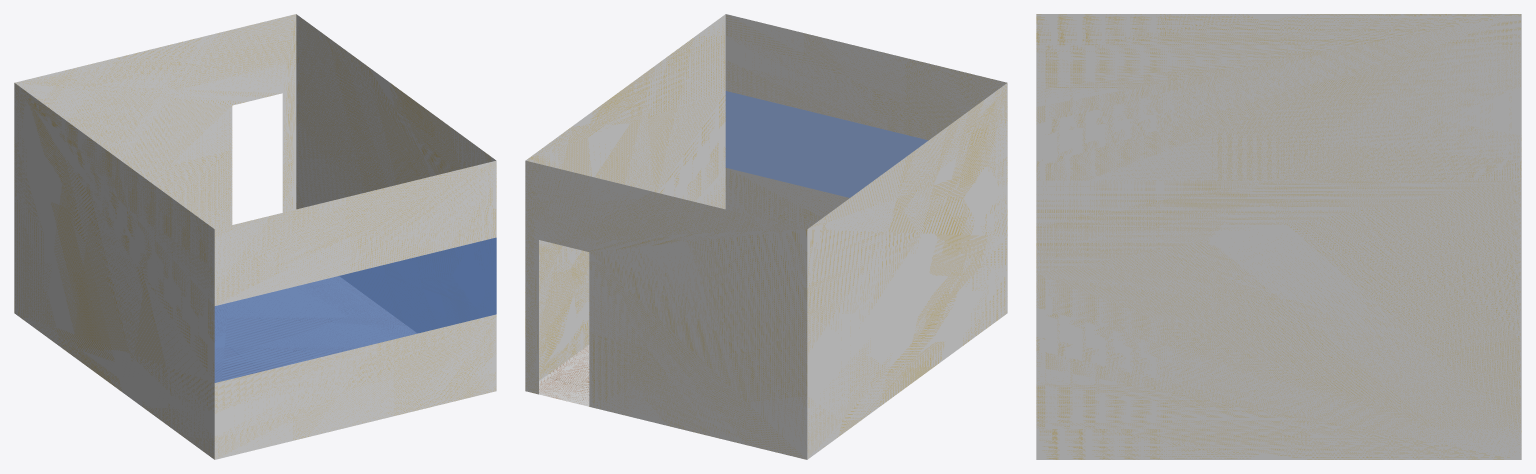
The model's file is LAB009.obj.
3 renders of one model, left to right at view 1: azimuth 30°, elevation 25°; view 2: azimuth 150°, elevation 25°; view 3: azimuth 270°, elevation 25°, orthographic. The views are drawn at different scales.
Visible parts, largest first — view 1: Mesh1 LAB009 Model; view 2: Mesh1 LAB009 Model; view 3: Mesh1 LAB009 Model.
Boxes of the visible parts, x1,y1,x2,y2 form: Mesh1 LAB009 Model: (14,14,496,459); Mesh1 LAB009 Model: (525,14,1007,459); Mesh1 LAB009 Model: (1036,14,1521,459).
Bounding box in the file's own units: 3.83 × 2.99 × 4.72.
5 materials, 1 textured.
